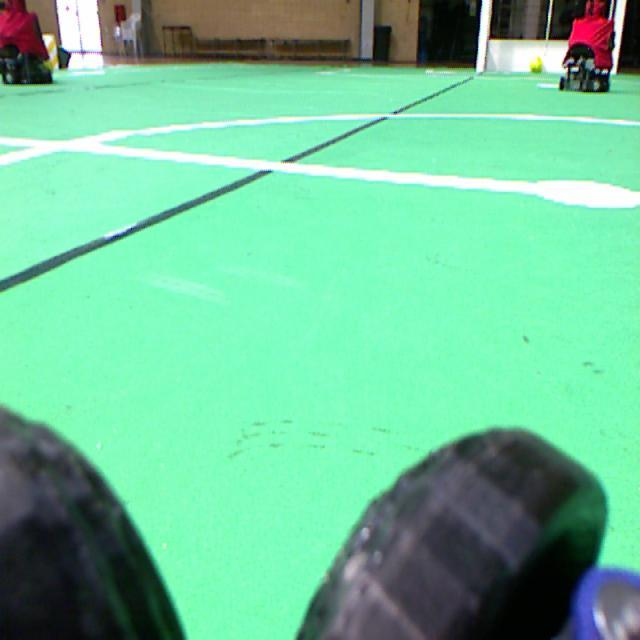ball: (529, 56, 541, 72)
goal: (610, 0, 626, 73), (476, 0, 491, 72)
